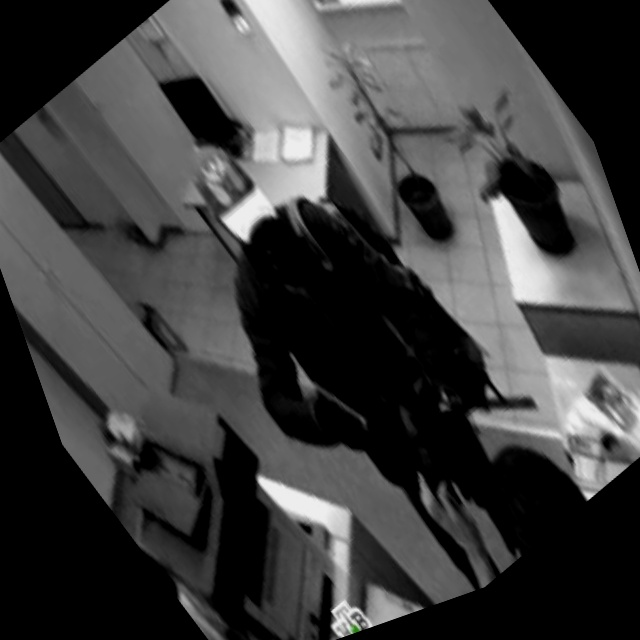gun: (302, 361, 389, 466)
